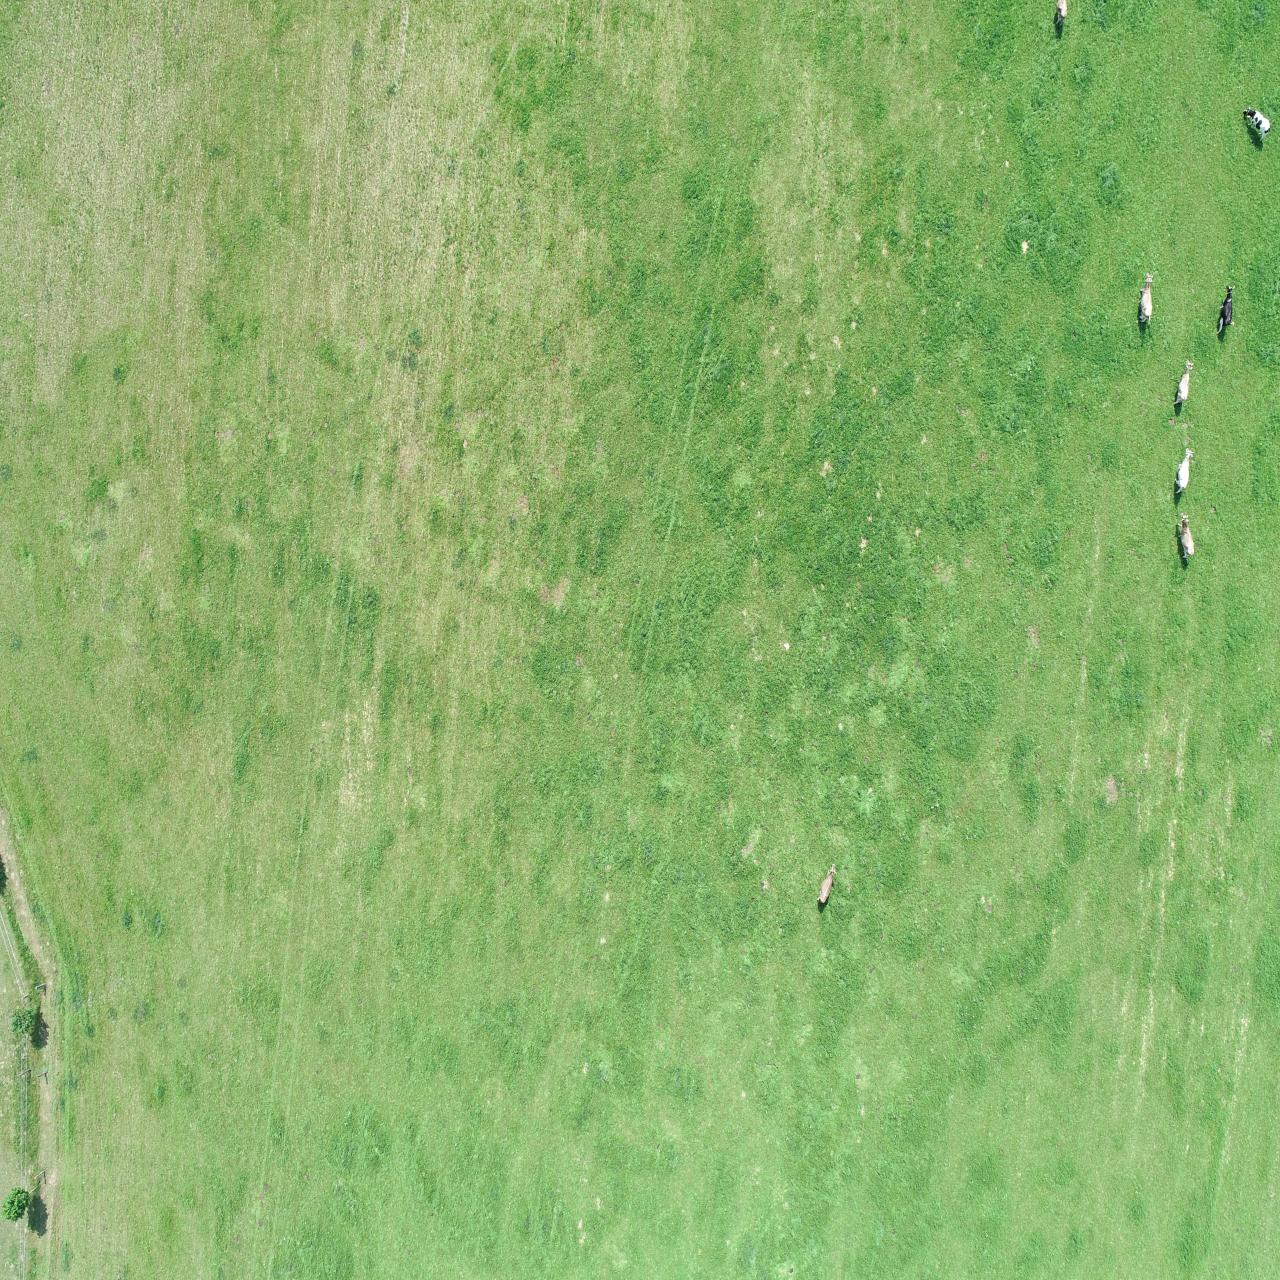cow: (1241, 104, 1273, 155), (1173, 447, 1196, 495), (1172, 359, 1193, 407), (1137, 271, 1155, 328), (1217, 285, 1235, 334), (1176, 512, 1194, 560), (816, 862, 837, 904), (1055, 0, 1068, 27)
